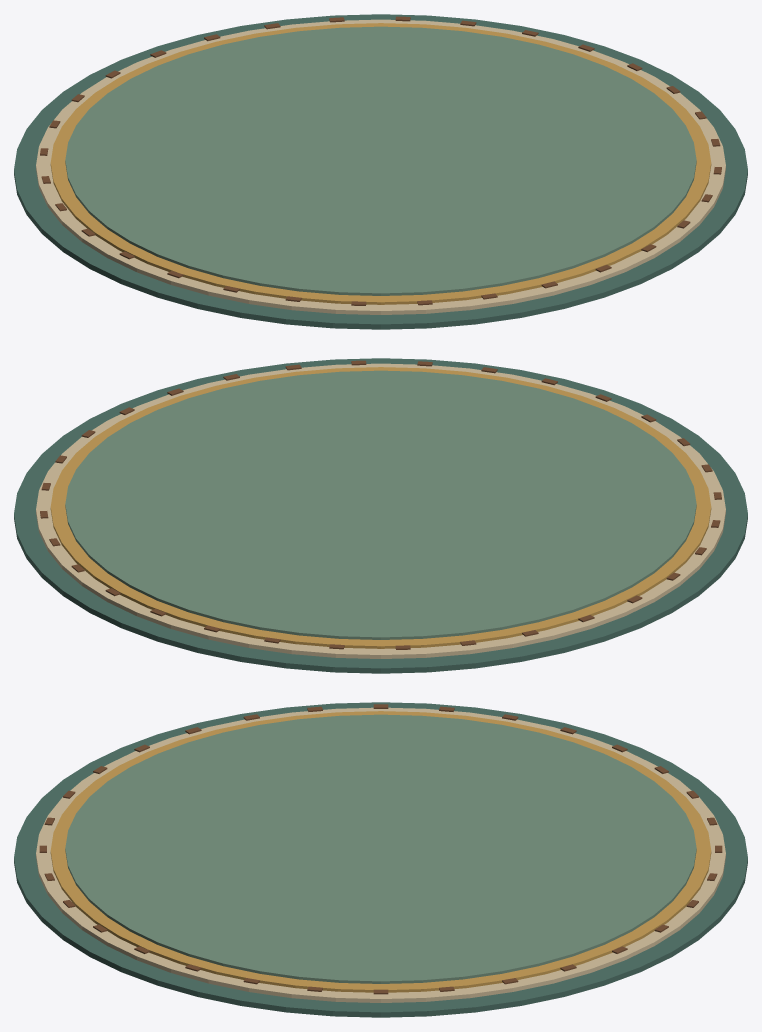
Rendered from SM_CH_Story_RoundRug.fbx.
3 views of the same model, one above another, from view 1: azimuth 30°, elevation 25°; view 2: azimuth 150°, elevation 25°; view 3: azimuth 270°, elevation 25° (orthographic).
Parts seen in each view (by area): view 1: SM_CH_Story_RoundRug; view 2: SM_CH_Story_RoundRug; view 3: SM_CH_Story_RoundRug.
Part boxes in pixels (x1,y1,x2,y2): SM_CH_Story_RoundRug: (14, 14, 747, 329); SM_CH_Story_RoundRug: (14, 358, 747, 673); SM_CH_Story_RoundRug: (14, 702, 747, 1017).
Bounding box in the file's own units: 10000 × 10000 × 220.
